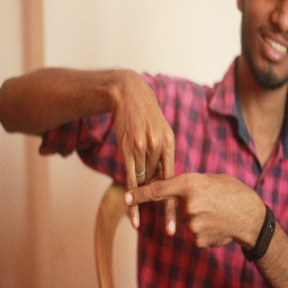H: (111, 131, 200, 233)
